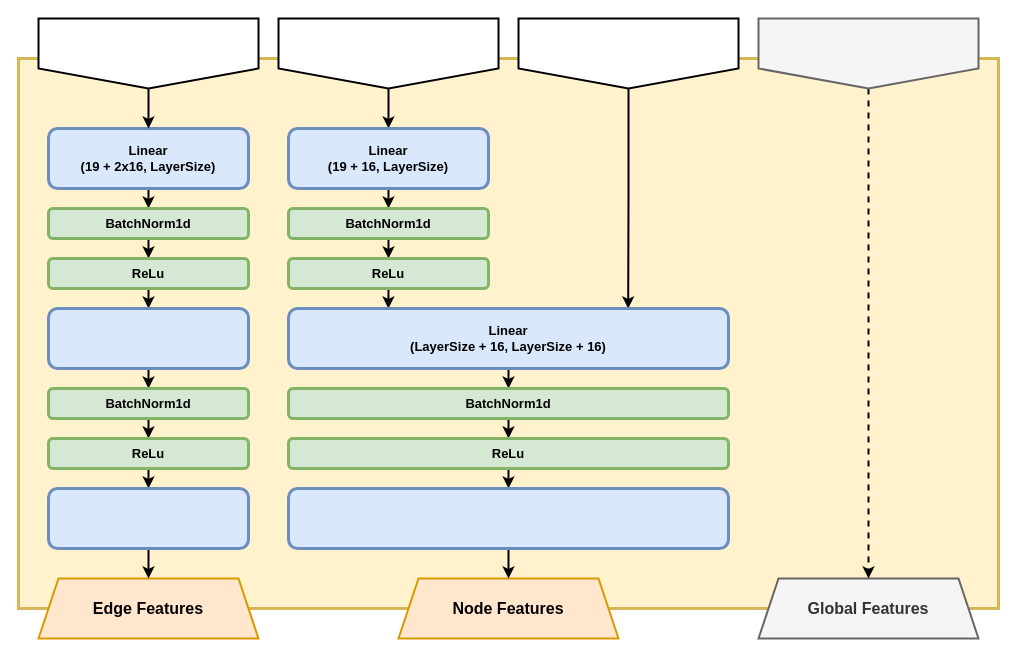
This 1017x656 diagram has some shape labels left out. The centre of each missing label's shape, as x and y in pixels:
Destination Node: [628,53]
Global Feature: [868,53]
Linear (LayerSize + 16, 16): [508,518]
Linear (LayerSize, 19): [148,518]
Linear (LayerSize, LayerSize): [148,338]
Source Node Destination Node Edge Feature: [148,53]
Source Node Edge Feature: [388,53]
